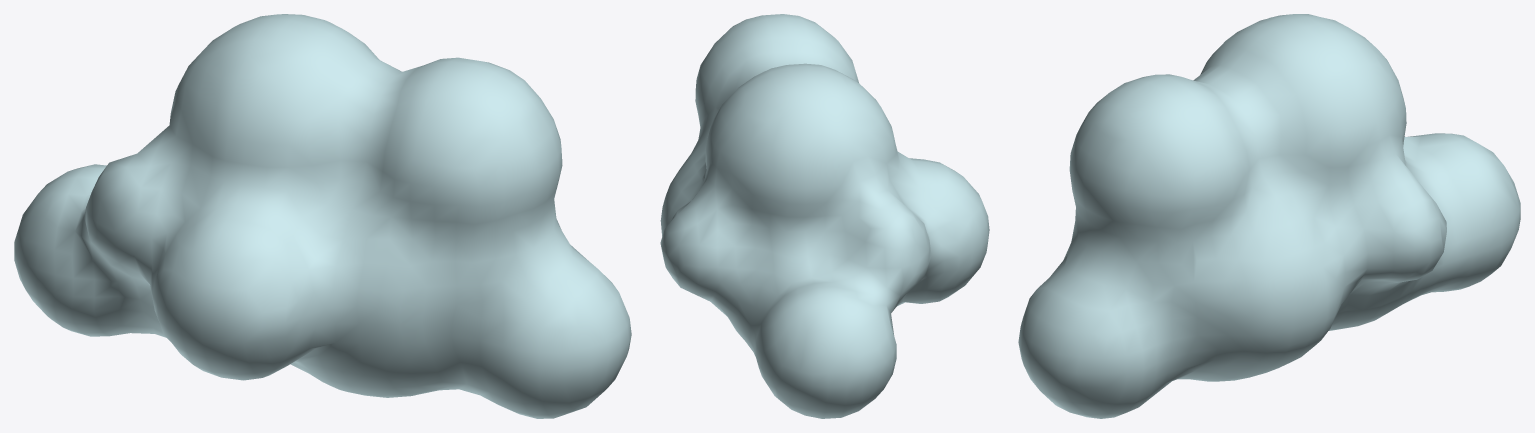
The model's file is cloud1.FBX.
3 renders of one model, left to right at view 1: azimuth 30°, elevation 25°; view 2: azimuth 150°, elevation 25°; view 3: azimuth 270°, elevation 25°, orthographic. The views are drawn at different scales.
Visible parts, largest first — view 1: PM3D_Sphere3D_006; view 2: PM3D_Sphere3D_006; view 3: PM3D_Sphere3D_006.
Part boxes in pixels (bbox=[...]): PM3D_Sphere3D_006: bbox=[14, 14, 631, 418]; PM3D_Sphere3D_006: bbox=[660, 14, 989, 418]; PM3D_Sphere3D_006: bbox=[1018, 14, 1520, 418].
Bounding box in the file's own units: 54.45 × 43.73 × 62.59.
